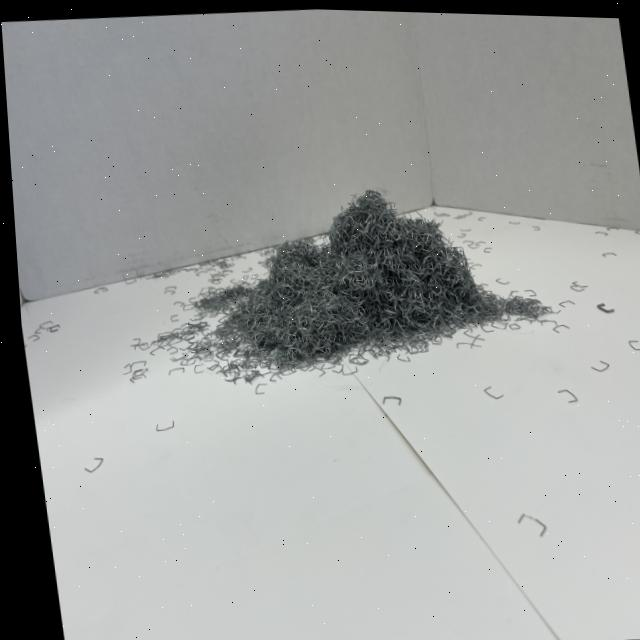staples: (176, 170, 555, 380)
